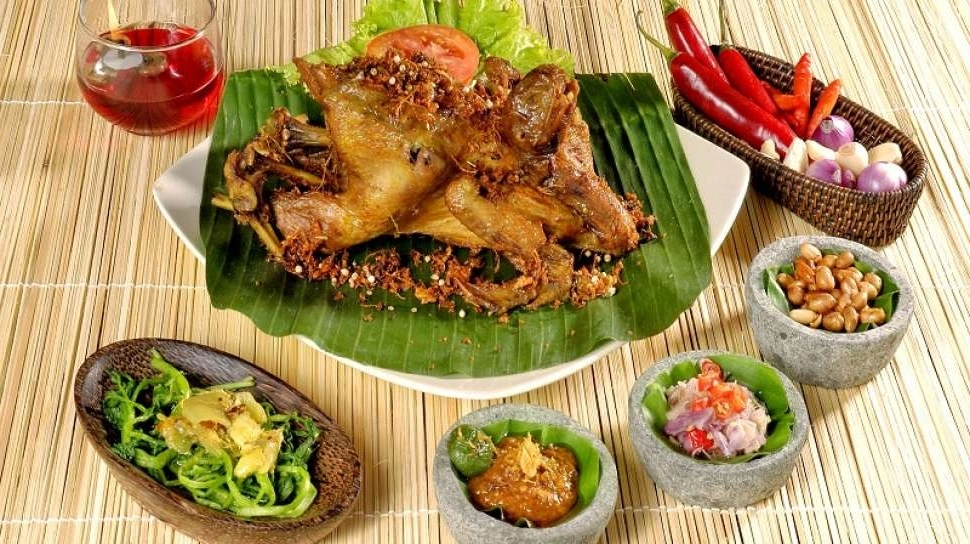ayam_betutu: (221, 63, 642, 316)
